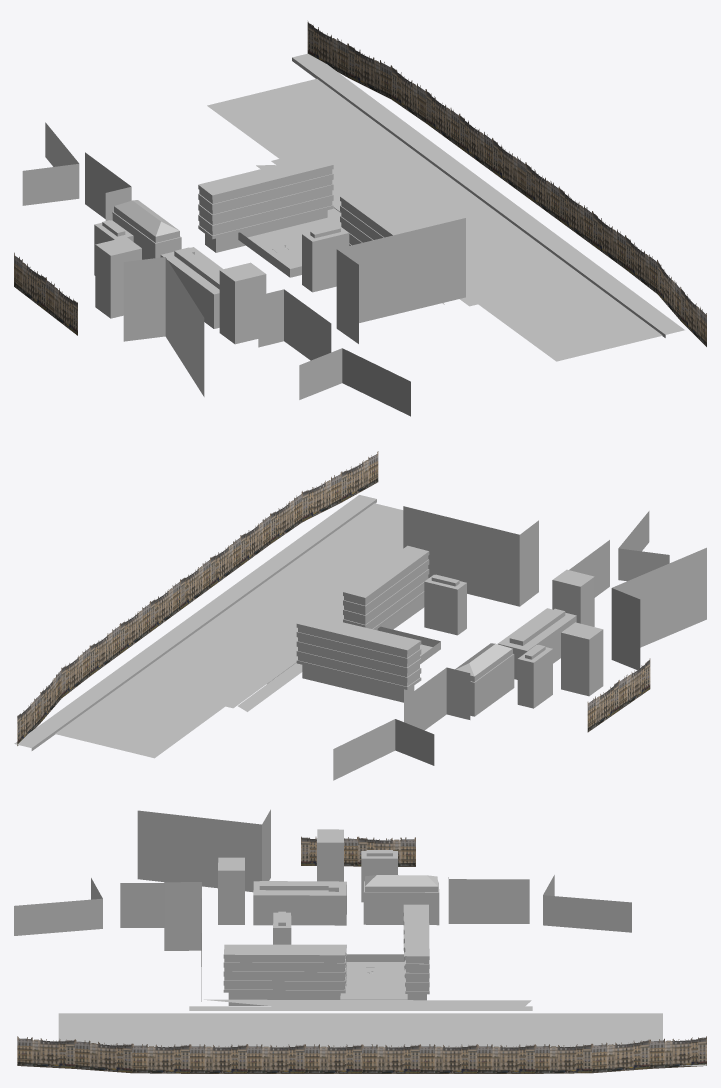
Rendered from Flood Scene Exterior.fbx.
3 renders of one model, top to bottom at view 1: azimuth 30°, elevation 25°; view 2: azimuth 150°, elevation 25°; view 3: azimuth 270°, elevation 25°, orthographic. The views are drawn at different scales.
Visible parts, largest first — view 1: River, Buildings1, EnvironmentClose, BackgroundPlane.001, Buildings4, EnvironmentFar, Buildings2, Buildings3, RWTHOffice, BackgroundPlane; view 2: River, EnvironmentClose, Buildings1, Buildings4, BackgroundPlane.001, EnvironmentFar, Buildings2, Buildings3, RWTHOffice, BackgroundPlane, Road; view 3: River, BackgroundPlane.001, Buildings1, EnvironmentClose, Buildings3, Buildings2, Buildings4, RWTHOffice, Road, BackgroundPlane.
Boxes of the visible parts, <box> form: River: <box>207,78,662,361</box>; Buildings1: <box>123,257,410,416</box>; EnvironmentClose: <box>198,154,480,306</box>; BackgroundPlane.001: <box>307,21,706,346</box>; Buildings4: <box>302,218,465,343</box>; EnvironmentFar: <box>292,53,684,337</box>; Buildings2: <box>94,220,222,328</box>; Buildings3: <box>22,122,131,220</box>; RWTHOffice: <box>112,200,181,259</box>; BackgroundPlane: <box>14,252,77,335</box>; River: <box>55,503,403,758</box>; EnvironmentClose: <box>223,545,440,708</box>; Buildings1: <box>552,511,706,669</box>; Buildings4: <box>403,506,538,635</box>; BackgroundPlane.001: <box>17,451,378,745</box>; EnvironmentFar: <box>14,495,376,750</box>; Buildings2: <box>498,608,603,708</box>; Buildings3: <box>333,667,470,780</box>; RWTHOffice: <box>455,643,514,716</box>; BackgroundPlane: <box>587,658,650,732</box>; Road: <box>238,663,302,711</box>; River: <box>58,1013,662,1047</box>; BackgroundPlane.001: <box>17,1036,706,1073</box>; Buildings1: <box>14,809,270,935</box>; EnvironmentClose: <box>189,904,532,1010</box>; Buildings3: <box>448,875,631,932</box>; Buildings2: <box>253,829,397,925</box>; Buildings4: <box>164,882,291,1001</box>; RWTHOffice: <box>363,875,439,925</box>; Road: <box>204,999,531,1006</box>; BackgroundPlane: <box>301,836,415,866</box>.
Size of the model in its own units: 28272 by 5041 by 40606.
